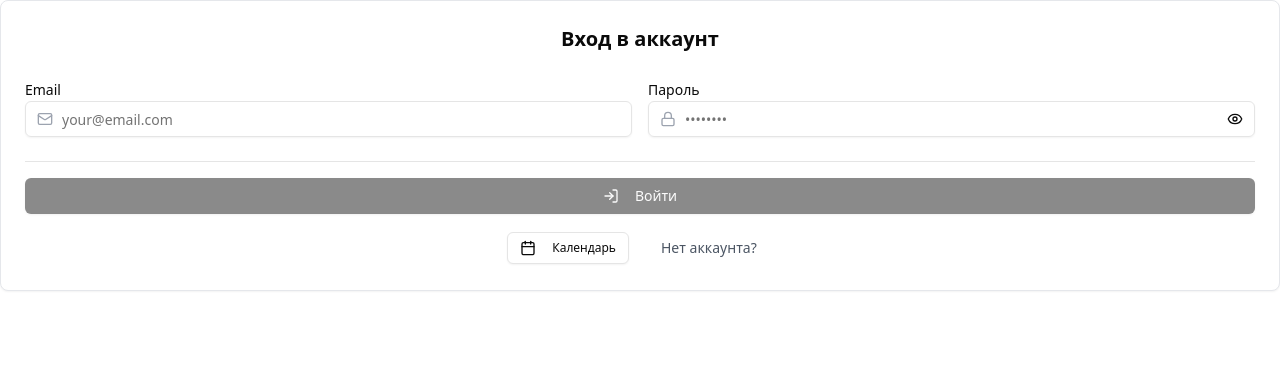
Test: AuthForm — режим входа › ошибка входа отображается в форме
Type "user@test.ru" into the field labelled "Email".
click(328, 119); type("user@test.ru")  # box [25, 101, 632, 137]
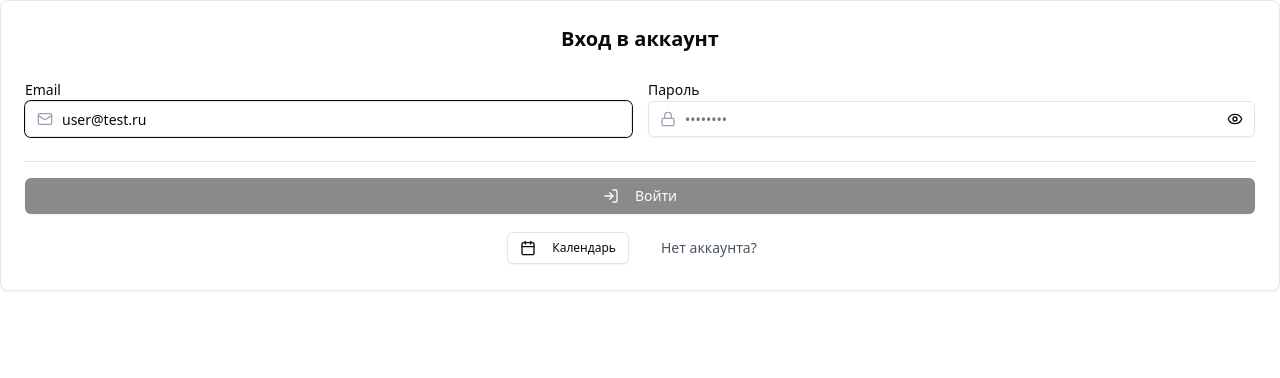
Type "Password1" into the password field labelled "Пароль".
click(952, 119); type("Password1")  # box [648, 101, 1255, 137]
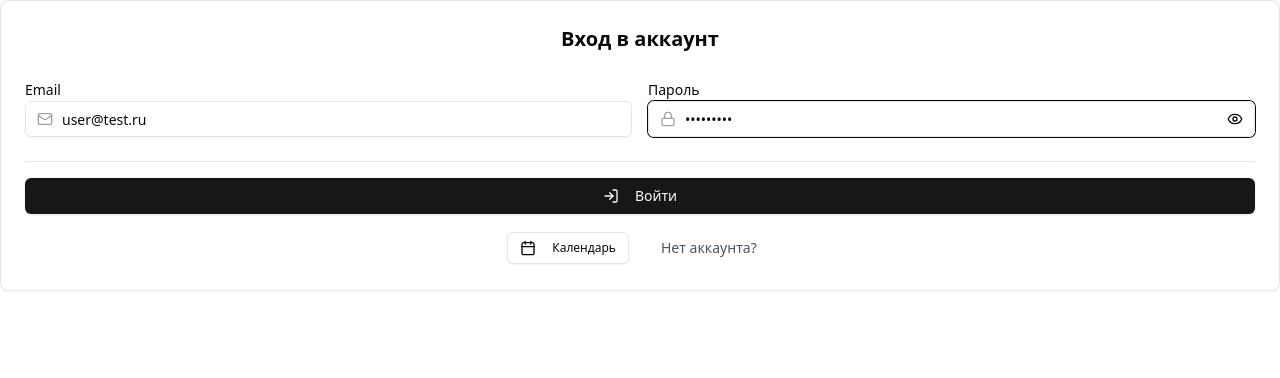
Click the button "Войти".
click(640, 196)  # box [25, 178, 1255, 214]
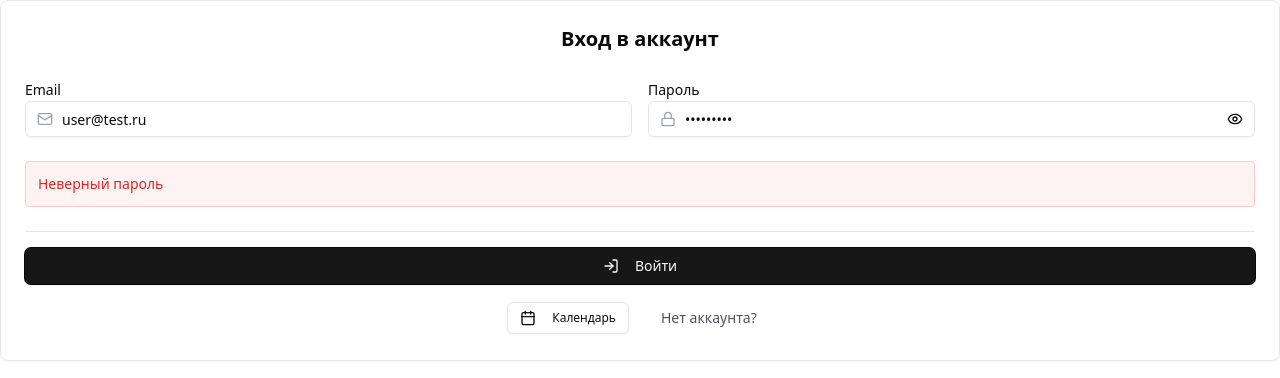
Result: the text "Неверный пароль" is shown at [25, 161, 1255, 207]
